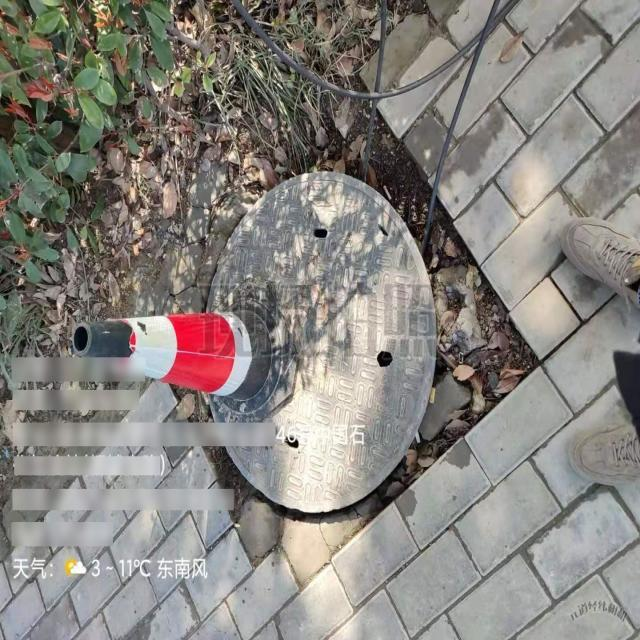Faulty: (197, 170, 438, 514)
